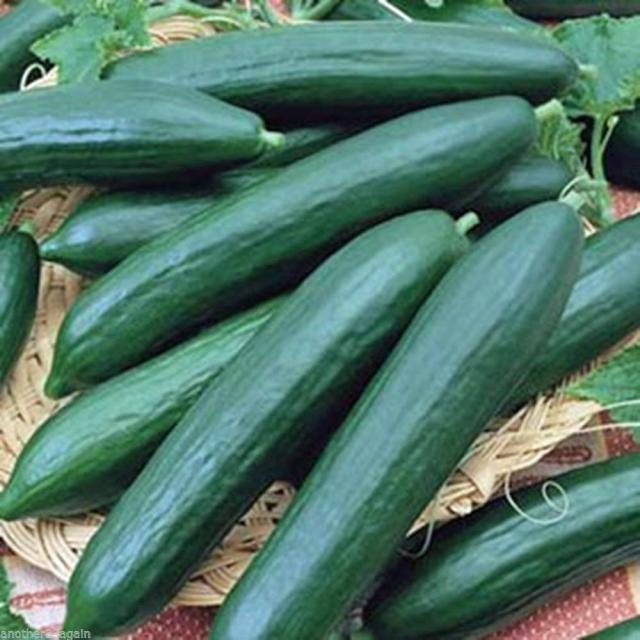cucumber: (57, 210, 475, 637), (201, 202, 595, 640), (47, 92, 534, 398), (1, 293, 293, 521), (84, 18, 580, 126), (369, 448, 640, 640), (2, 80, 264, 190), (511, 214, 640, 418), (43, 168, 279, 276), (1, 221, 43, 384)
